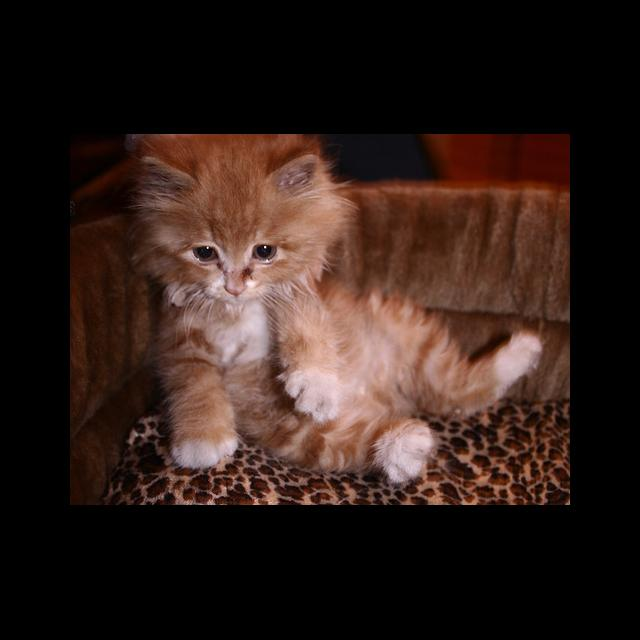animals: (146, 156, 315, 294)
